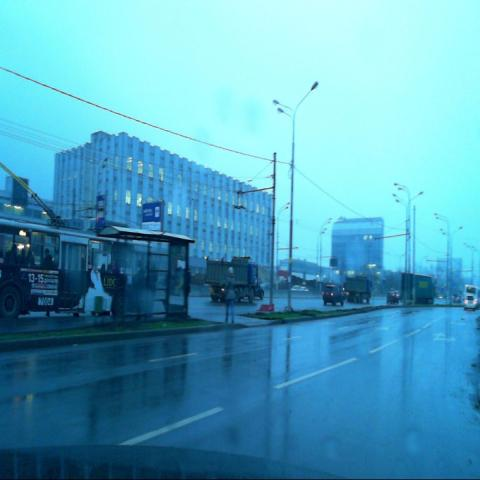5_16: (96, 196, 105, 230)
